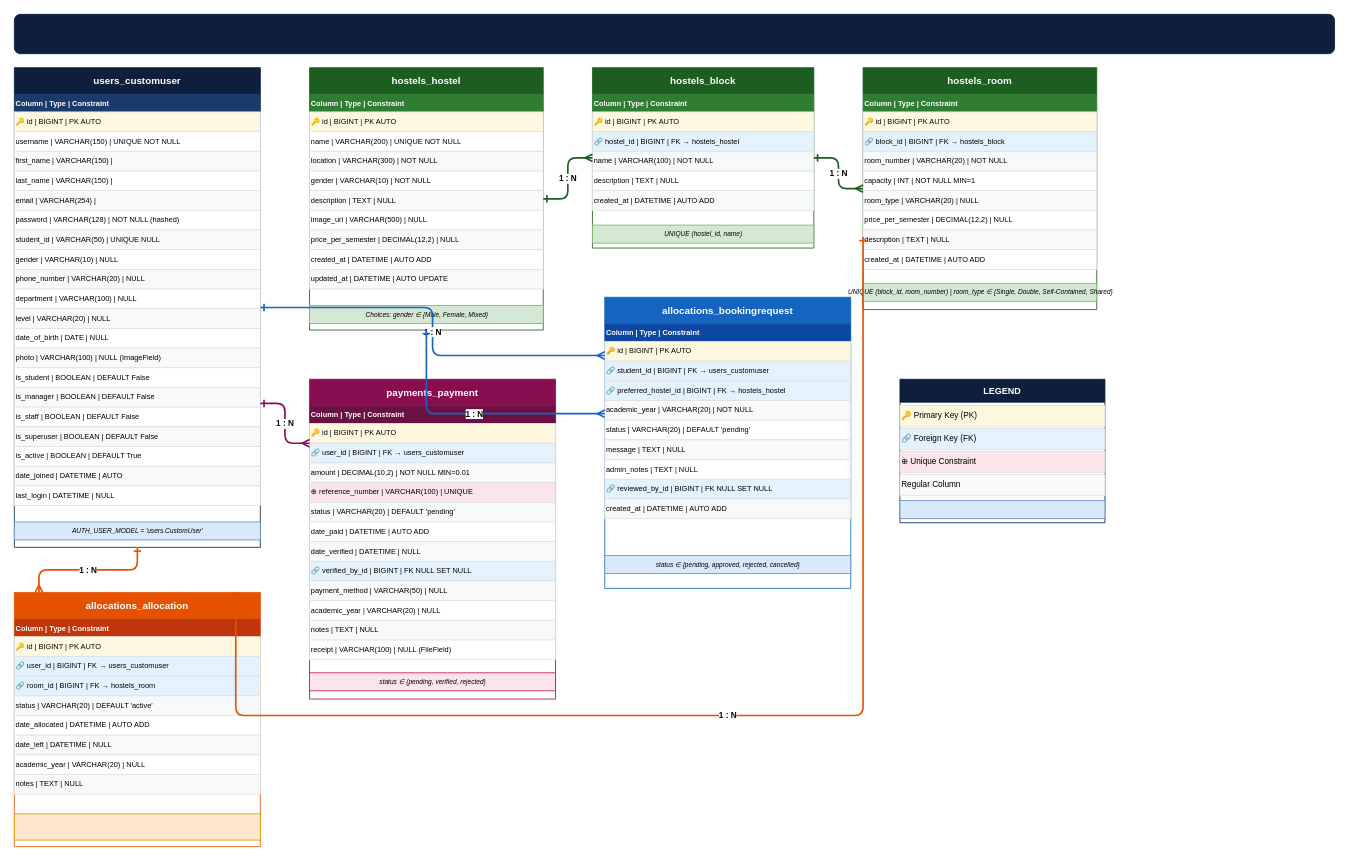
Some shapes in this 1349 by 861 pixel diagram are drawn without their labels. The shapes that lost their labels are listed below. From the top down, each one's centre as x and y in pixels, then its label:
[674,34]: DATABASE DESIGN — Online Hostel Information Management System
[1002,509]: italic bar = Constraints / Choices
[137,826]: UNIQUE (user_id) WHERE status='active' | status ∈ {active, left, cancelled}
